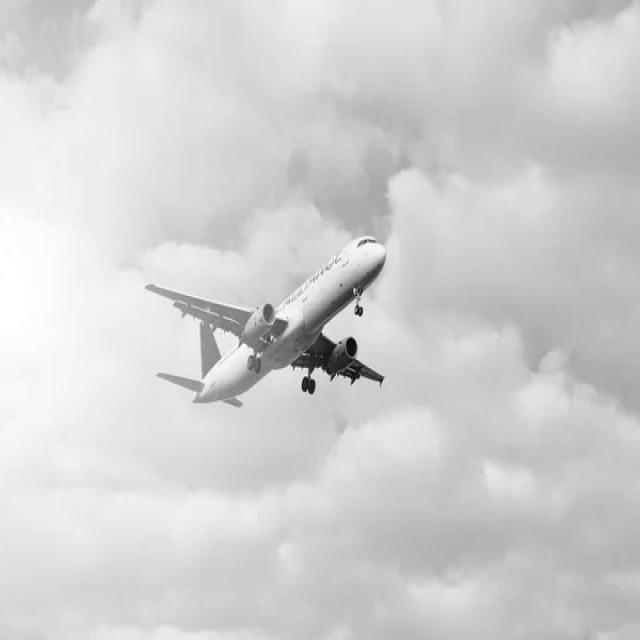Aircraft: (133, 229, 397, 436)
